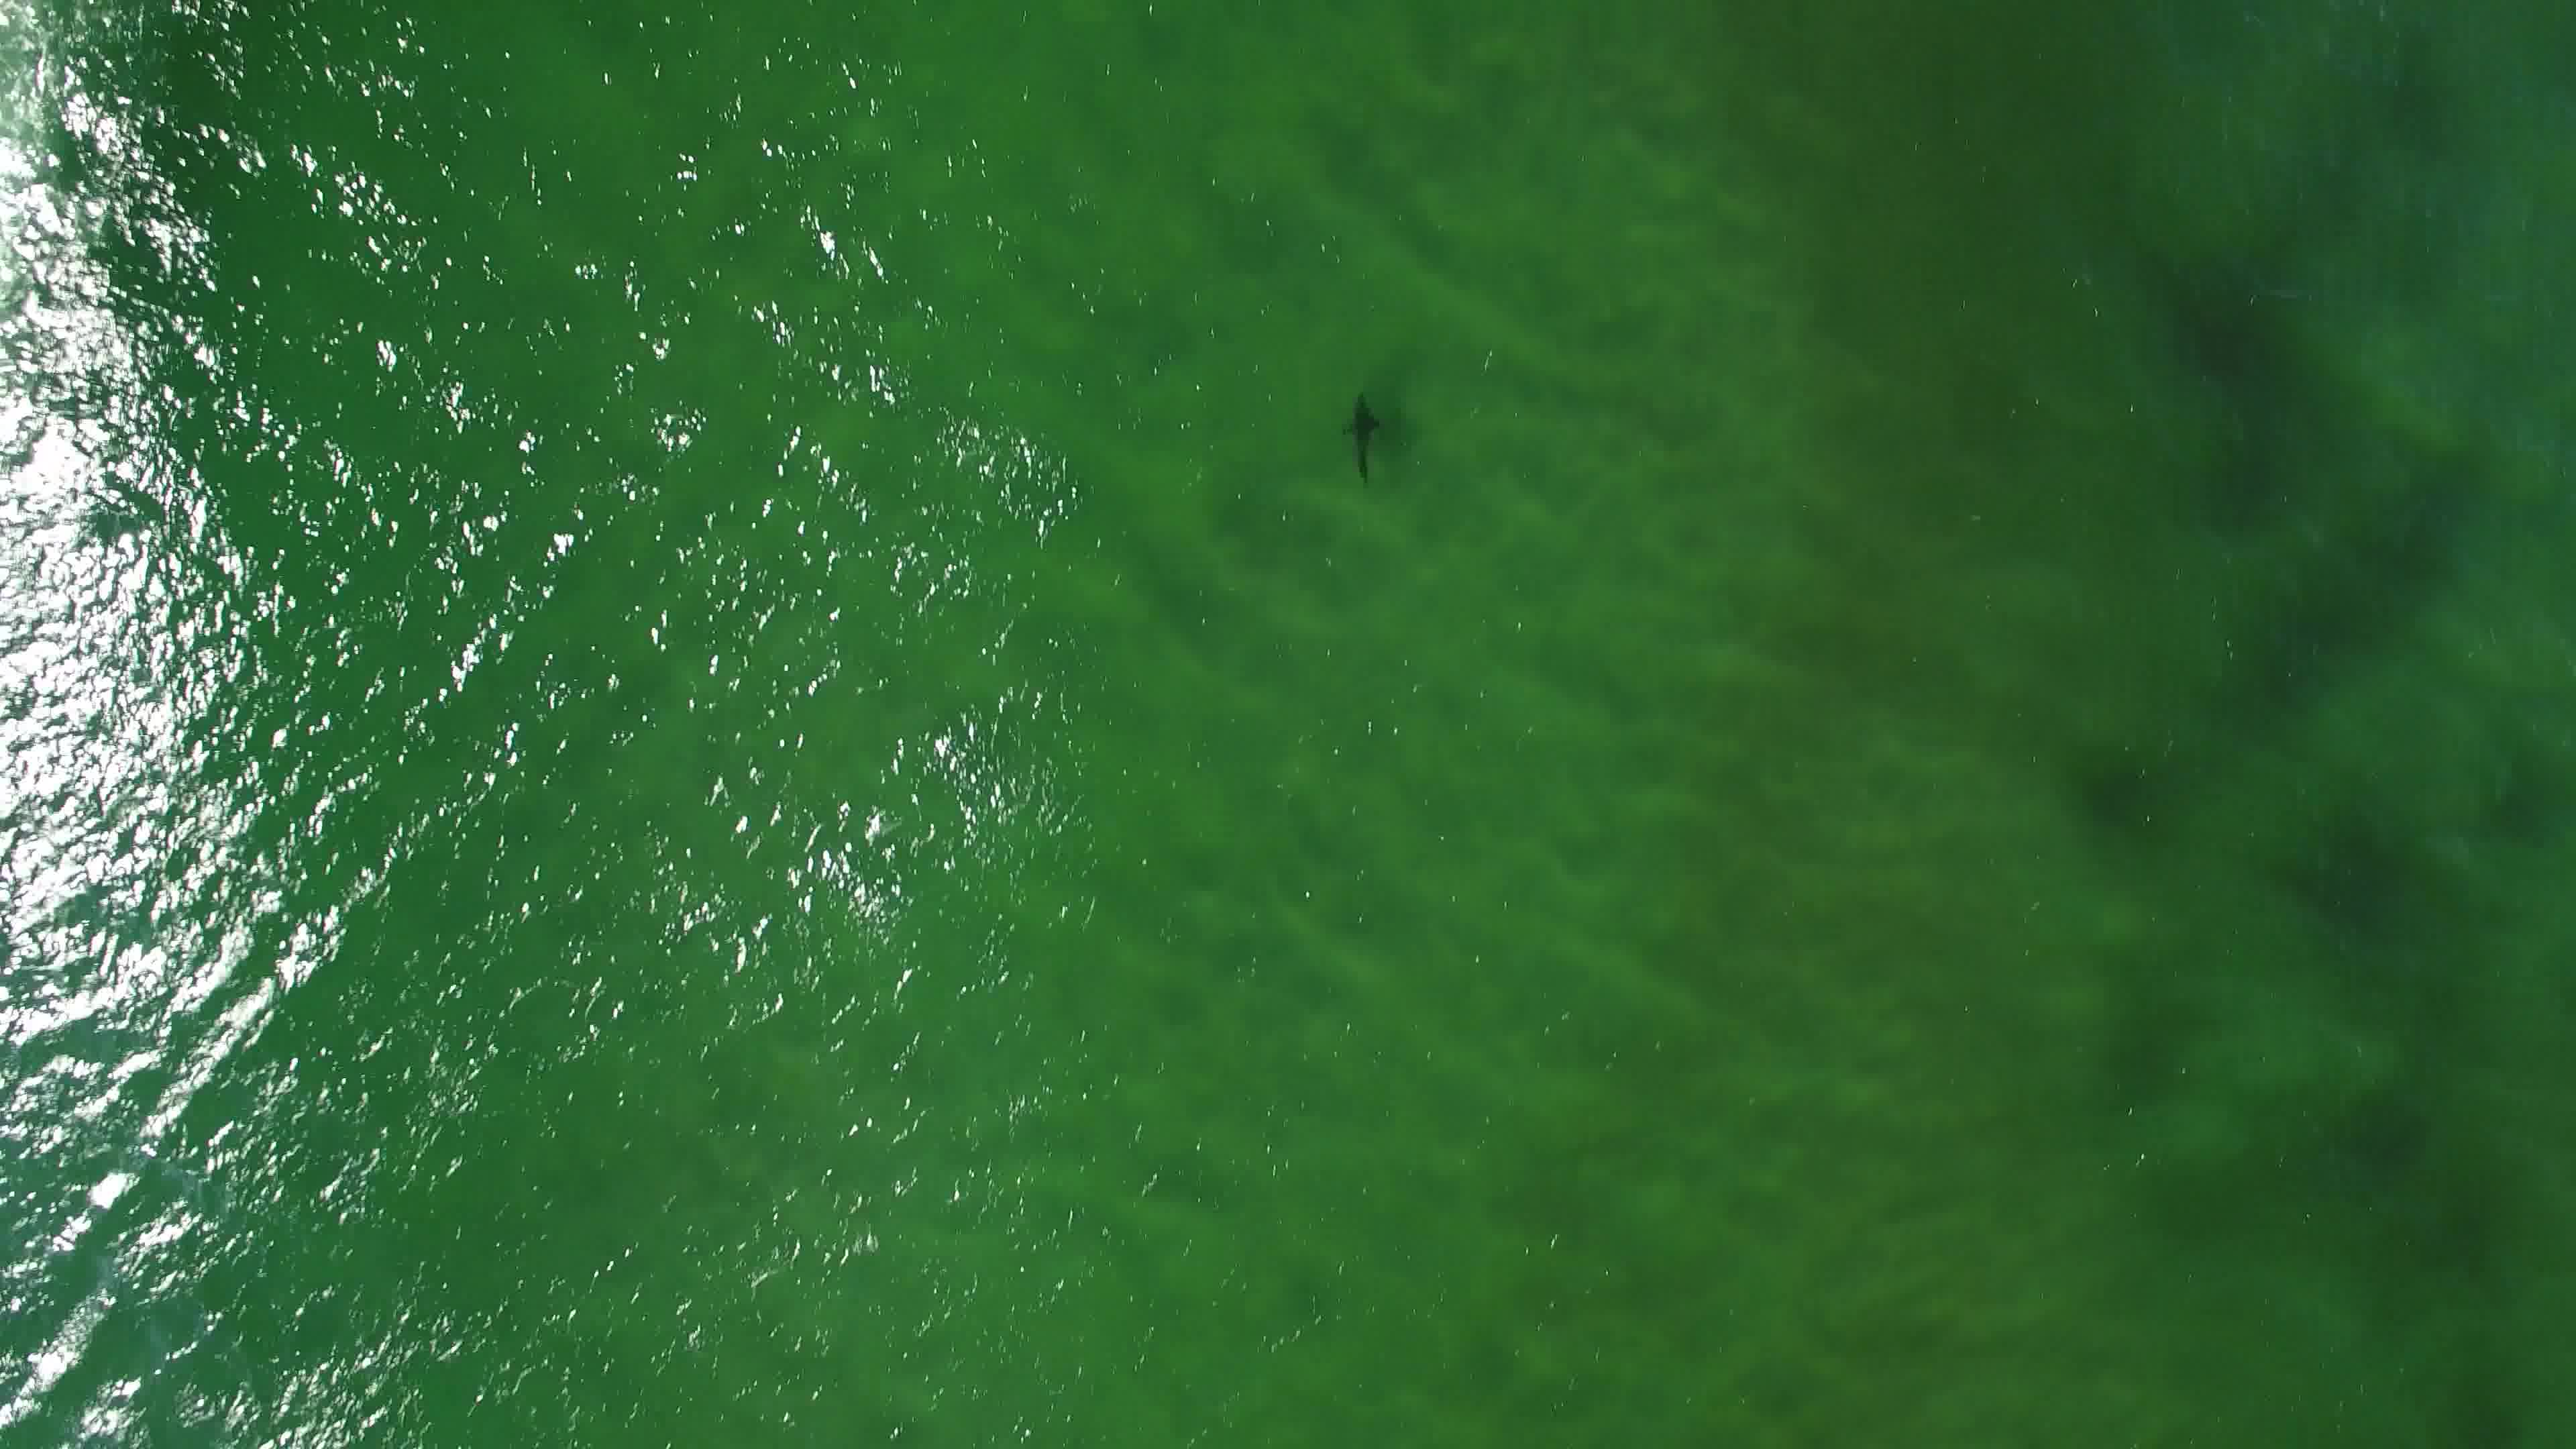shark: (1338, 391, 1385, 483)
